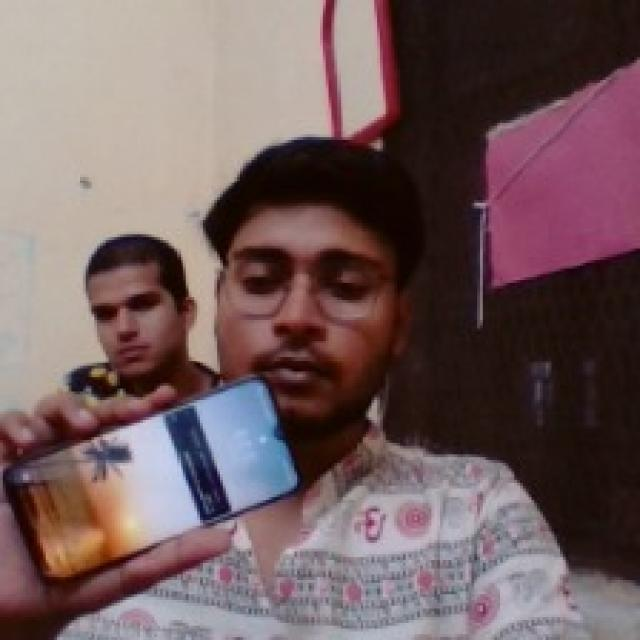Phone: (0, 374, 306, 594)
